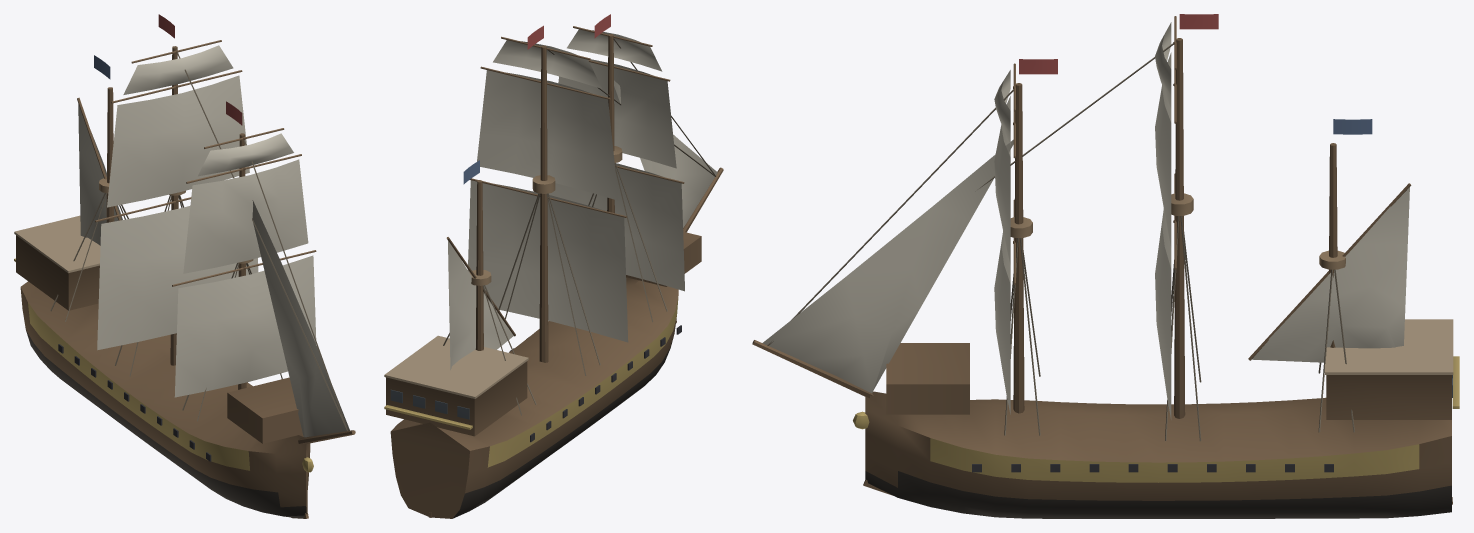
Rendered from galleon.glb.
3 views of the same model, side by side, from view 1: azimuth 30°, elevation 25°; view 2: azimuth 150°, elevation 25°; view 3: azimuth 270°, elevation 25° (orthographic). The views are drawn at different scales.
Visible parts, largest first — view 1: Body; view 2: Body; view 3: Body.
Boxes of the visible parts, x1,y1,x2,y2 form: Body: (14, 14, 355, 518); Body: (384, 14, 723, 518); Body: (752, 14, 1459, 518).
Size of the model in its own units: 1.6 by 3.89 by 5.06.
